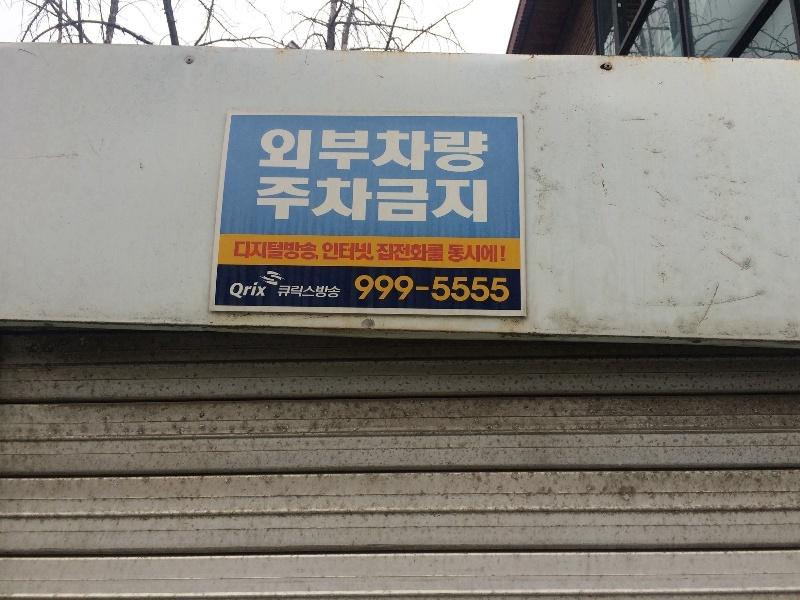text: (273, 126, 288, 176), (289, 126, 304, 176), (305, 126, 320, 176), (321, 126, 336, 176), (337, 126, 352, 176), (353, 126, 368, 176), (369, 126, 384, 176), (385, 126, 400, 176), (401, 126, 416, 176), (417, 126, 432, 176), (433, 126, 448, 176), (449, 126, 464, 176), (465, 126, 480, 176), (273, 175, 288, 223), (289, 175, 304, 223), (305, 175, 320, 223), (321, 175, 336, 223), (337, 175, 352, 223), (353, 175, 368, 223), (369, 175, 384, 223), (385, 175, 400, 223), (401, 175, 416, 223), (417, 175, 432, 223), (433, 175, 448, 223), (449, 175, 464, 223), (465, 175, 480, 223), (259, 175, 272, 223), (262, 126, 272, 176), (369, 274, 384, 303), (385, 274, 400, 303), (401, 274, 416, 303), (417, 274, 432, 303), (433, 274, 448, 303), (449, 274, 464, 303), (465, 274, 480, 303), (481, 274, 496, 303), (497, 274, 510, 303), (481, 126, 488, 176), (356, 274, 368, 303), (337, 240, 352, 263), (353, 240, 368, 263), (481, 175, 488, 223), (241, 279, 256, 301), (322, 240, 336, 263), (241, 241, 256, 262), (257, 241, 272, 262), (273, 241, 288, 262), (289, 241, 304, 262), (449, 243, 464, 263), (465, 243, 480, 263), (481, 243, 496, 263), (305, 241, 319, 262), (385, 243, 400, 262), (401, 243, 416, 262), (417, 243, 432, 262), (257, 279, 268, 301), (289, 284, 304, 299), (305, 284, 320, 299), (321, 284, 336, 299), (433, 243, 444, 262), (497, 243, 506, 263), (232, 279, 240, 301), (376, 243, 384, 262), (369, 240, 375, 263), (279, 284, 288, 299), (234, 241, 240, 262), (337, 284, 342, 299), (447, 243, 448, 263)
